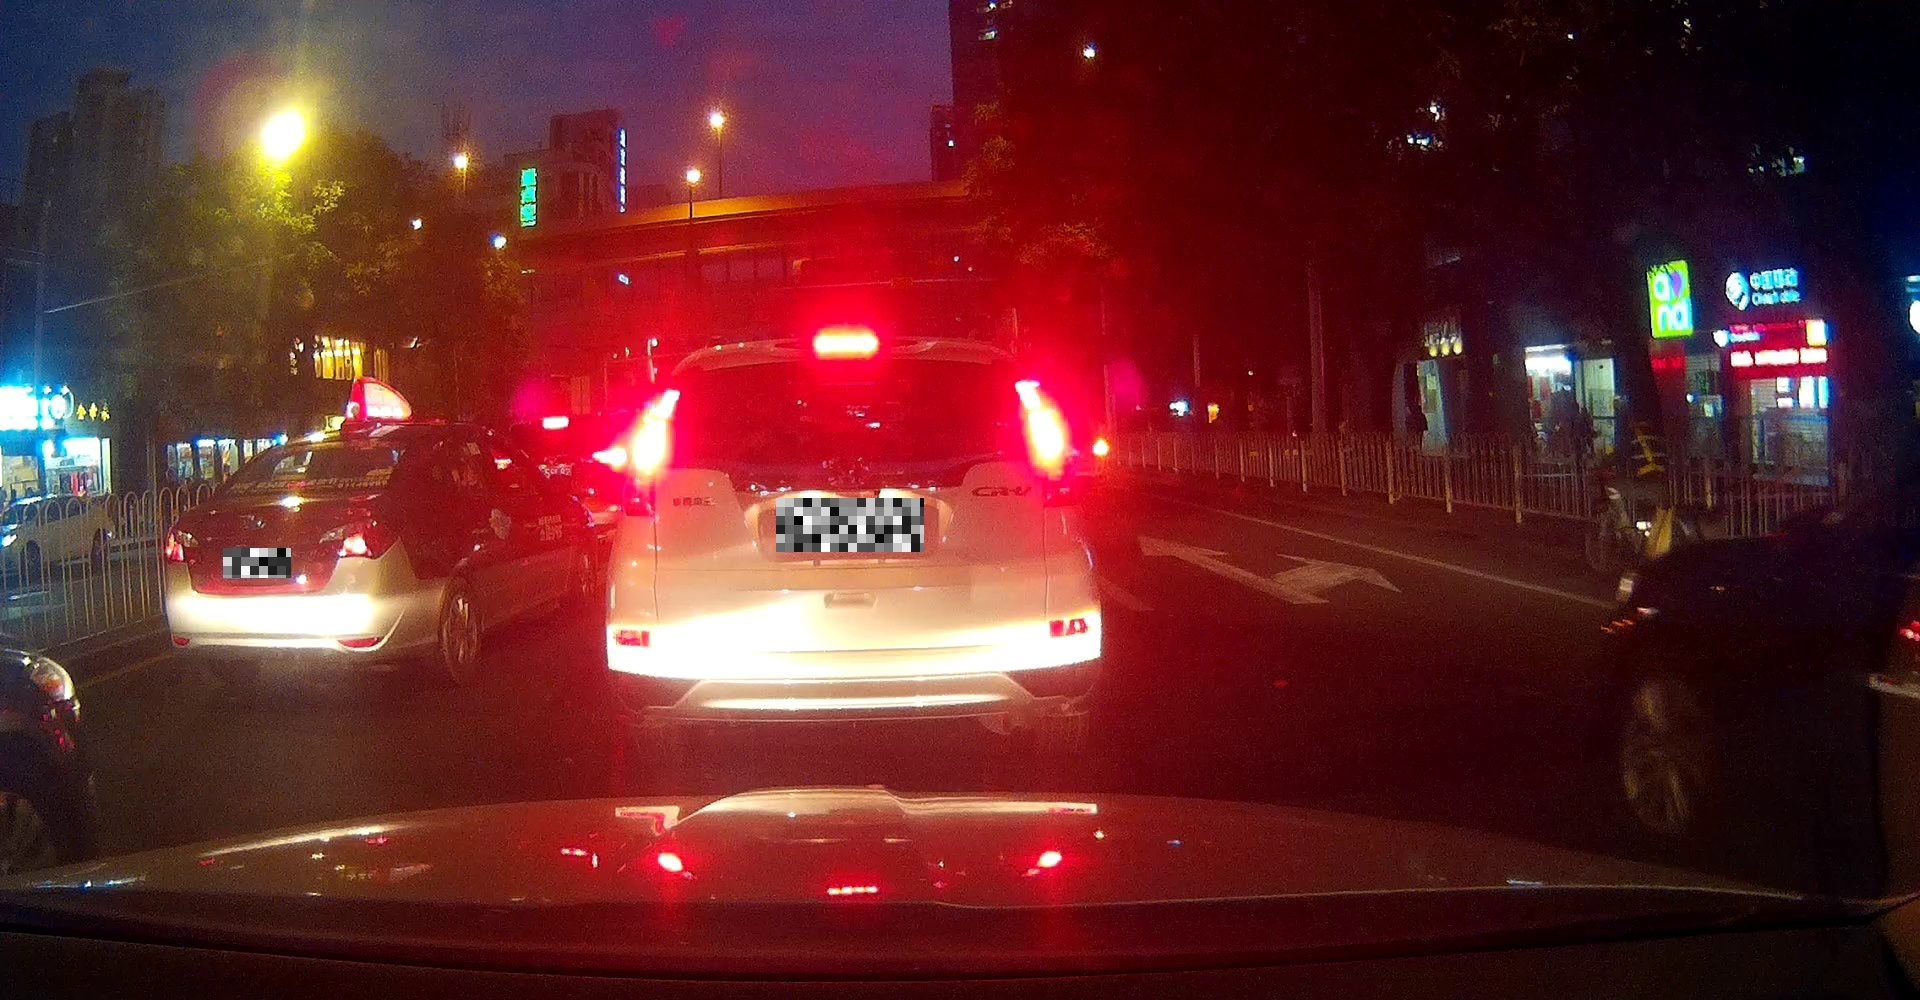L_light: (622, 388, 681, 518), (164, 529, 201, 563)
R_light: (1015, 379, 1081, 505), (319, 519, 399, 558)
T_light: (814, 336, 879, 354), (284, 481, 307, 489)
night-brake: (603, 327, 1103, 754), (163, 423, 417, 681)
plate_1: (223, 548, 291, 577)
plate_2: (776, 497, 924, 552)
